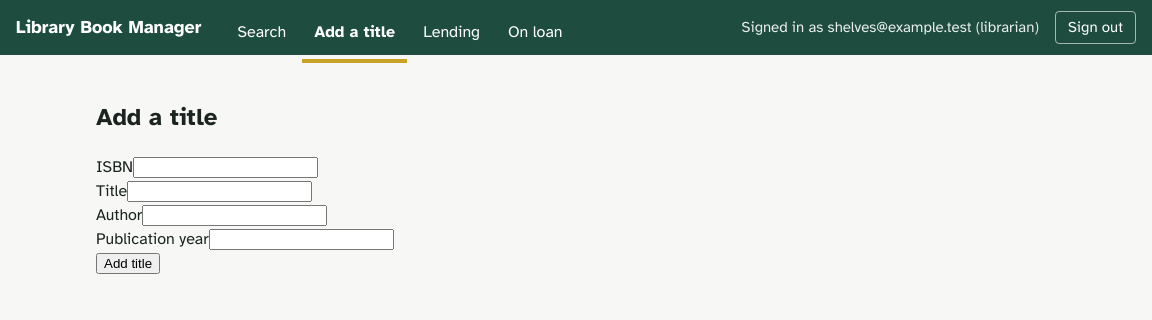
Test: REQ-BOOK-001 add a title › AC-BOOK-001-2: an ISBN already in the catalogue is reported and the form keeps what was typed
Type "9780261102217" into the field labelled "ISBN".
click(226, 167); type("9780261102217")  # box [133,157,318,178]
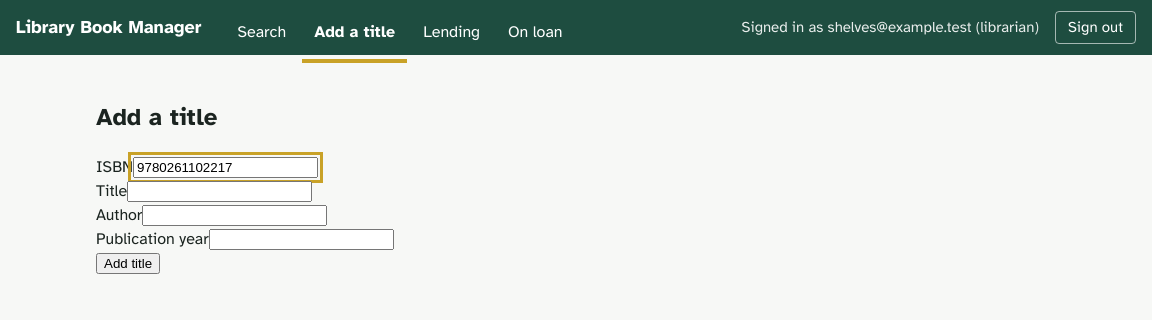
Type "The Hobbit" into the field labelled "Title".
click(220, 191); type("The Hobbit")  # box [127,181,312,202]
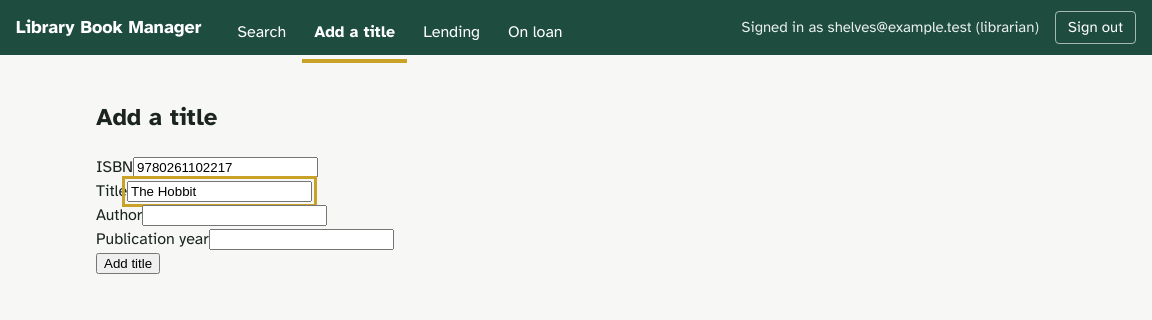
Type "Tolkien" into the field labelled "Author".
click(235, 215); type("Tolkien")  # box [142,205,327,226]
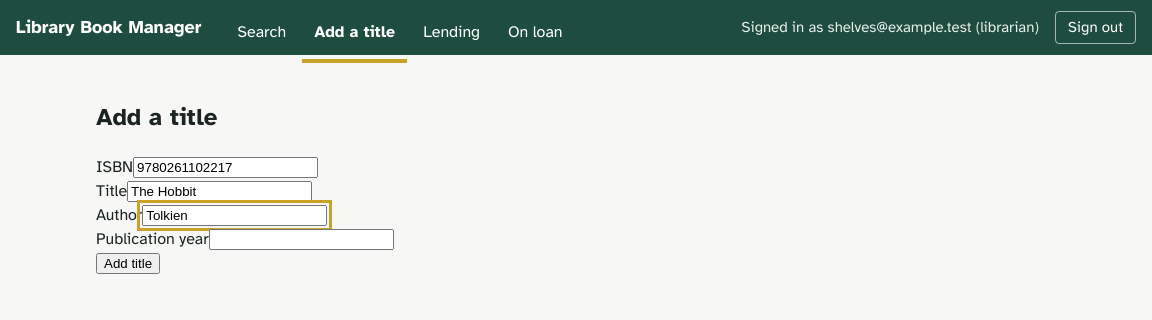
Type "1937" into the field labelled "Publication year".
click(301, 239); type("1937")  # box [209,229,394,250]
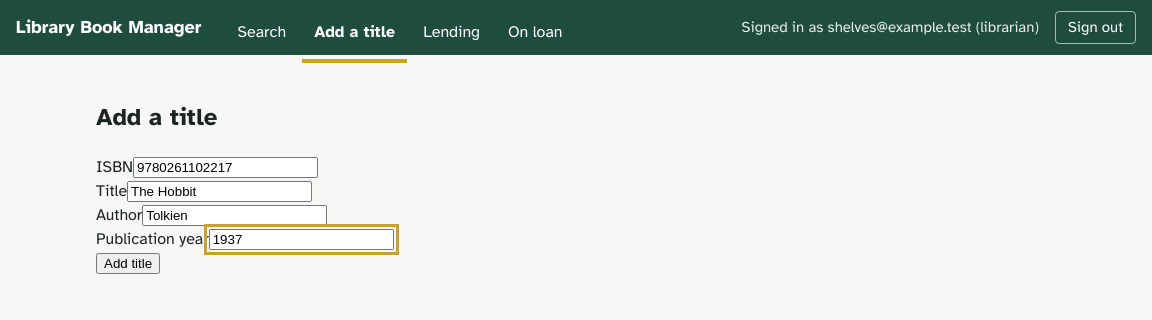
Click the button "Add title".
click(128, 263)  # box [96,253,160,274]
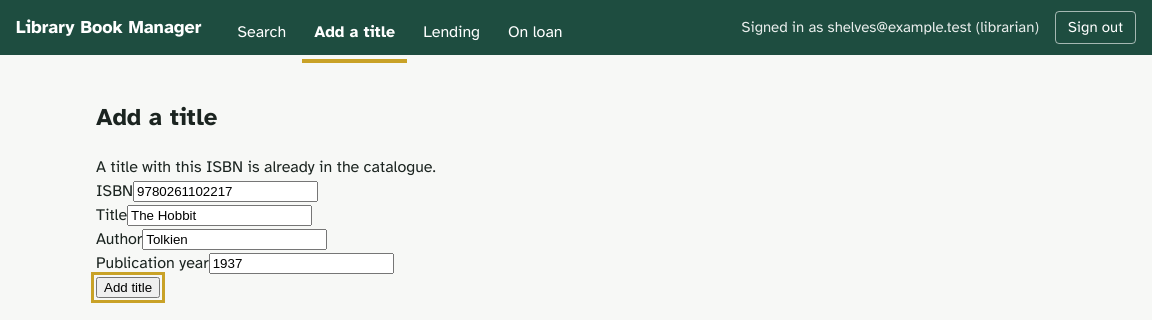
Result: the message reads "A title with this ISBN is already in the catalogue." at [96,157,436,177]
